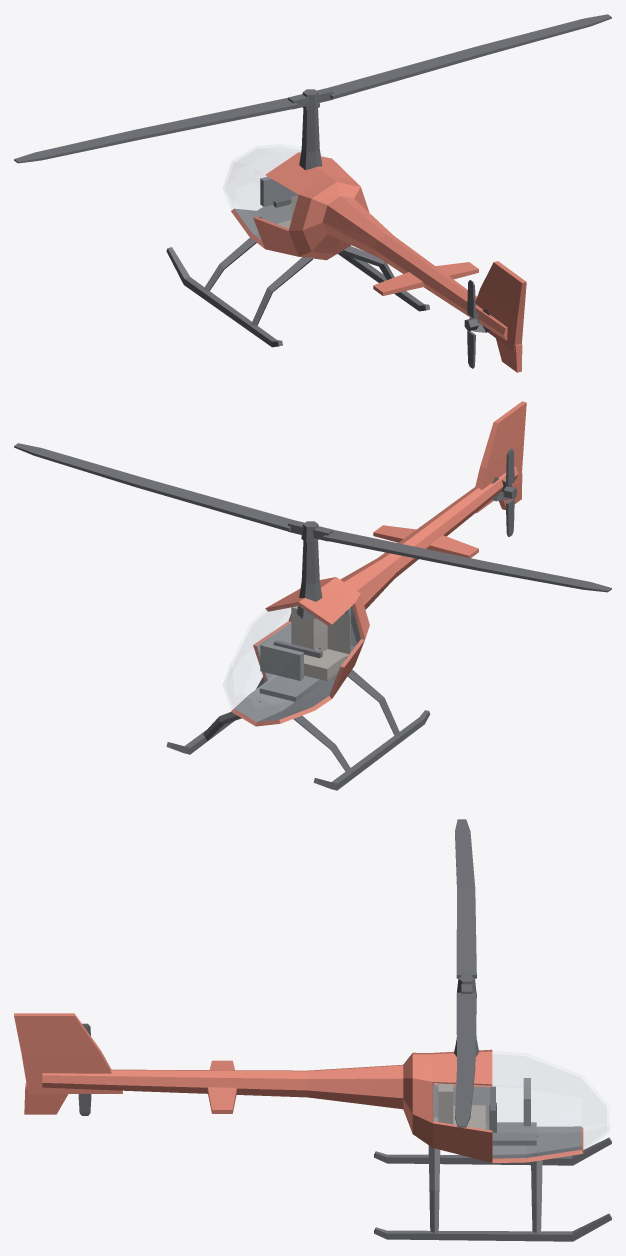
Rendered from helicopter_lowpoly_min.glb.
3 views of the same model, one above another, from view 1: azimuth 30°, elevation 25°; view 2: azimuth 150°, elevation 25°; view 3: azimuth 270°, elevation 25° (orthographic). The views are drawn at different scales.
Parts seen in each view (by area): view 1: Body, MainRotor, Canopy, TailRotor; view 2: Body, MainRotor, Canopy, TailRotor; view 3: Body, Canopy, MainRotor.
Boxes of the visible parts, x1=… form: Body: x1=166, y1=108, x2=526, y2=372; MainRotor: x1=14, y1=14, x2=611, y2=163; Canopy: x1=226, y1=147, x2=300, y2=210; TailRotor: x1=464, y1=280, x2=478, y2=368; Body: x1=166, y1=401, x2=526, y2=790; MainRotor: x1=14, y1=443, x2=611, y2=592; Canopy: x1=226, y1=608, x2=290, y2=708; TailRotor: x1=503, y1=448, x2=517, y2=536; Body: x1=14, y1=1013, x2=611, y2=1241; Canopy: x1=434, y1=1054, x2=606, y2=1149; MainRotor: x1=455, y1=819, x2=476, y2=1127.
Size of the model in its own units: 7.67 by 2.67 by 6.31.
